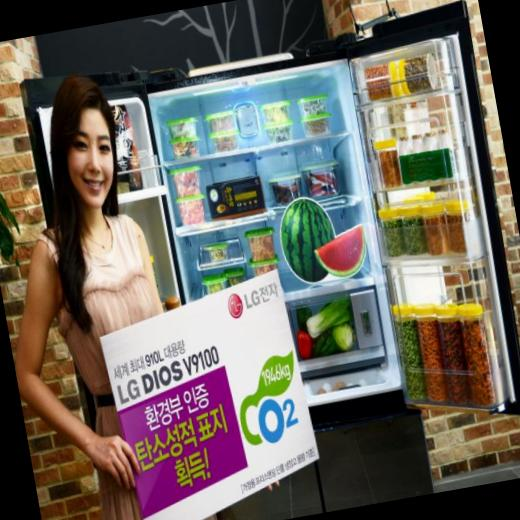Cherry: (272, 192, 341, 286), (312, 220, 372, 282)
